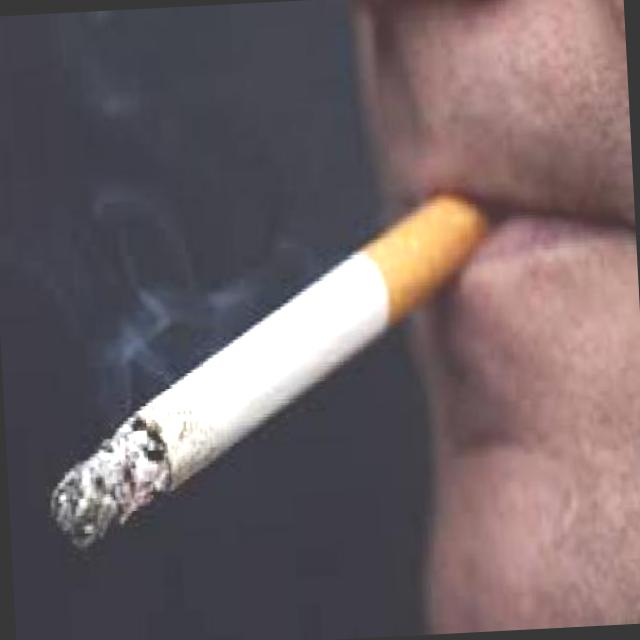smoke: (31, 155, 510, 562)
